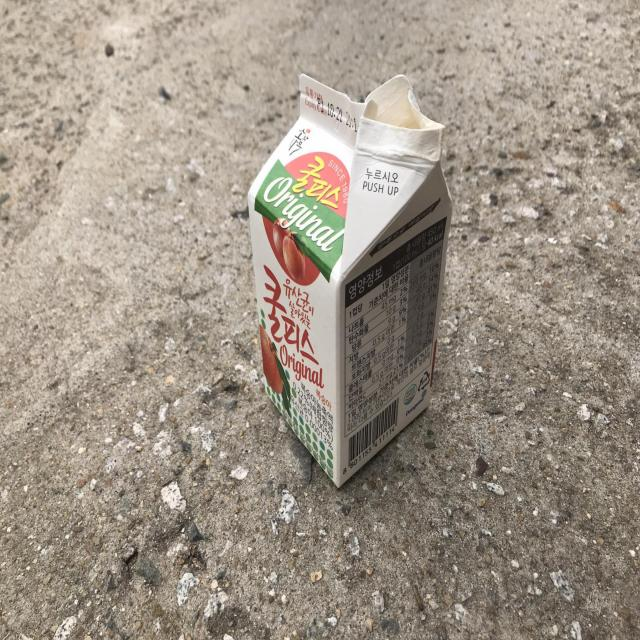paperpack: (248, 74, 453, 487)
